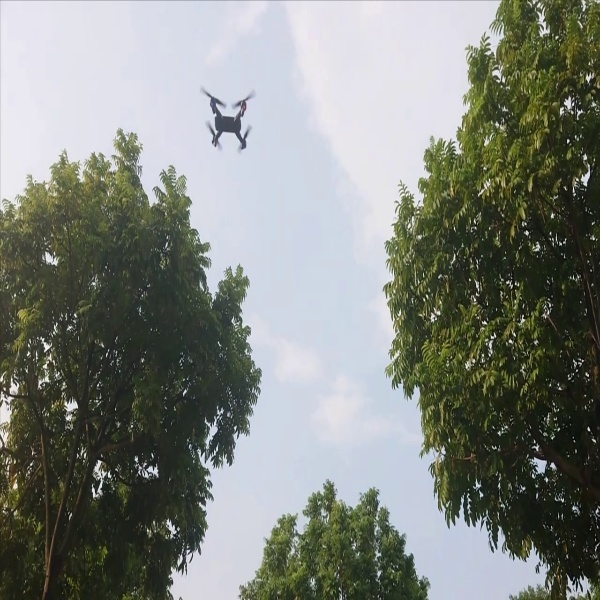drone: (187, 81, 269, 159)
